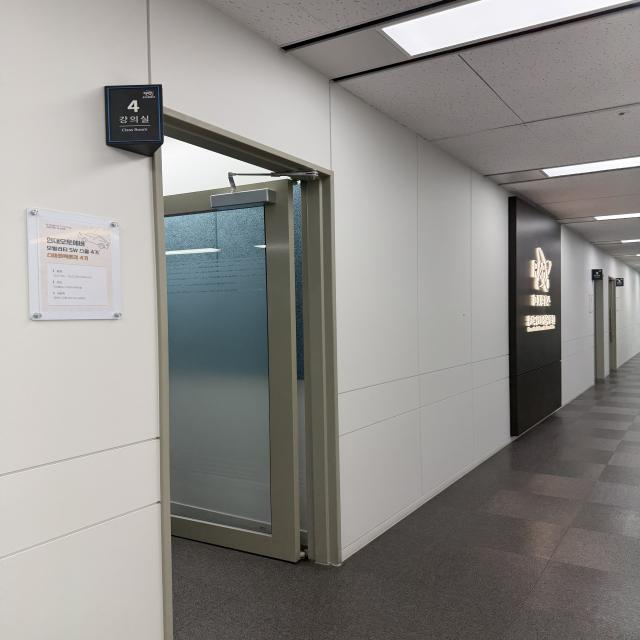sign: (105, 85, 162, 142)
